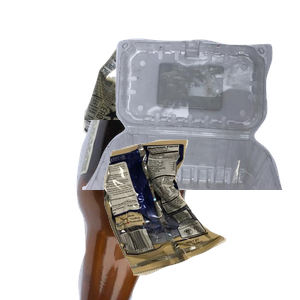glass: (60, 120, 300, 300)
metal: (81, 41, 234, 178)
plastic: (80, 36, 300, 216)
trash: (101, 137, 300, 300)
